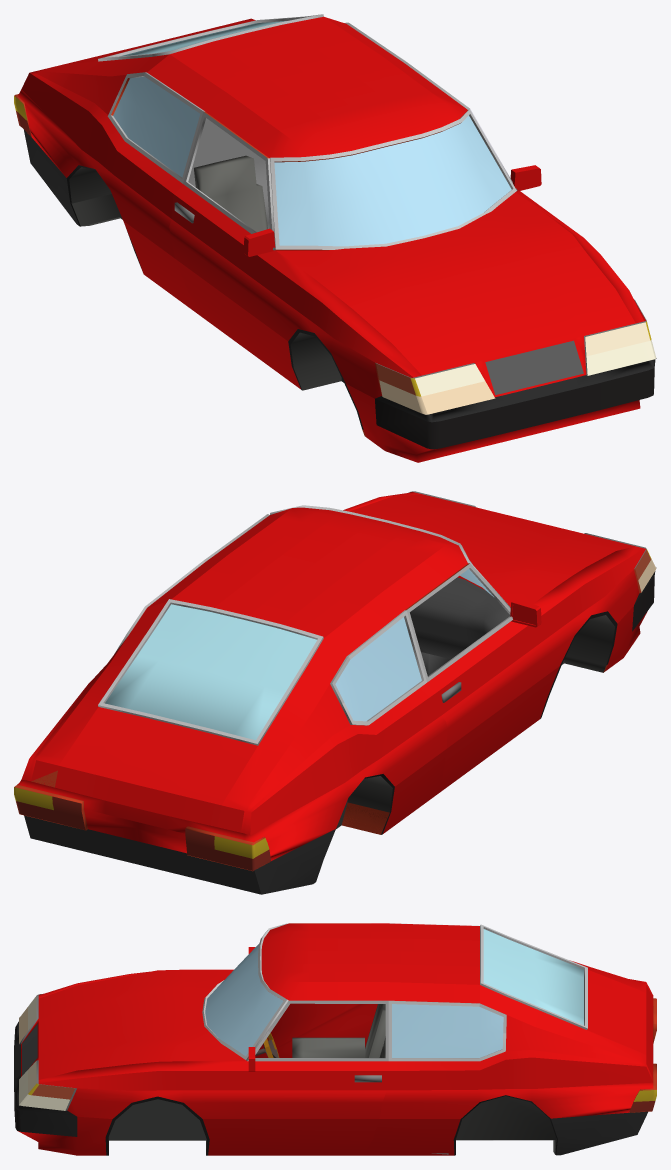
File: Turbo_Red.fbx
3 views of the same model, one above another, from view 1: azimuth 30°, elevation 25°; view 2: azimuth 150°, elevation 25°; view 3: azimuth 270°, elevation 25° (orthographic). The views are drawn at different scales.
Parts seen in each view (by area): view 1: Chassi, Hood, Glass, Door_R, Seats, Trunk, Door_L, TrunkGlass; view 2: Chassi, Trunk, TrunkGlass, Door_R, Hood, Glass; view 3: Chassi, Hood, Door_L, Glass, TrunkGlass, Trunk, Door_R, Seats.
Part boxes in pixels (<box>): Chassi: <box>14,16,656,462</box>; Hood: <box>276,192,635,375</box>; Glass: <box>113,76,511,246</box>; Door_R: <box>169,111,278,372</box>; Seats: <box>194,155,267,232</box>; Trunk: <box>63,14,323,64</box>; Door_L: <box>405,62,541,195</box>; TrunkGlass: <box>120,21,286,56</box>; Chassi: <box>14,491,656,894</box>; Trunk: <box>55,599,323,826</box>; TrunkGlass: <box>105,604,316,740</box>; Door_R: <box>405,563,541,791</box>; Hood: <box>349,494,634,607</box>; Glass: <box>335,560,493,721</box>; Chassi: <box>14,923,656,1155</box>; Hood: <box>38,969,246,1079</box>; Door_L: <box>242,1000,388,1155</box>; Glass: <box>205,944,503,1057</box>; TrunkGlass: <box>483,929,583,1025</box>; Trunk: <box>480,924,652,1068</box>; Door_R: <box>248,923,377,1057</box>; Seats: <box>292,1004,385,1057</box>.
Bounding box in the file's own units: 2.14 × 1.42 × 5.18.
